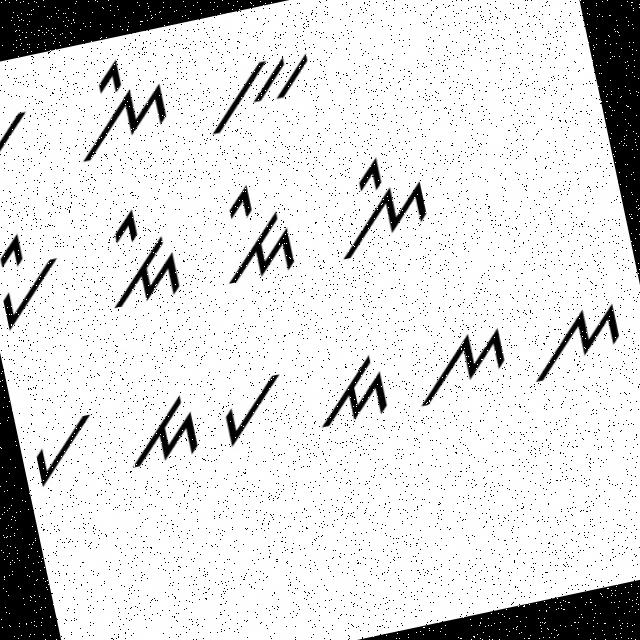da: (106, 380, 205, 480), (297, 342, 399, 438)
di: (202, 176, 314, 298), (88, 194, 192, 324)
na: (401, 314, 514, 417), (522, 288, 630, 394)
ni: (314, 150, 446, 280), (58, 39, 180, 168)
pa: (205, 362, 297, 452), (15, 400, 104, 492)
pi: (0, 220, 76, 335), (0, 65, 45, 188)
